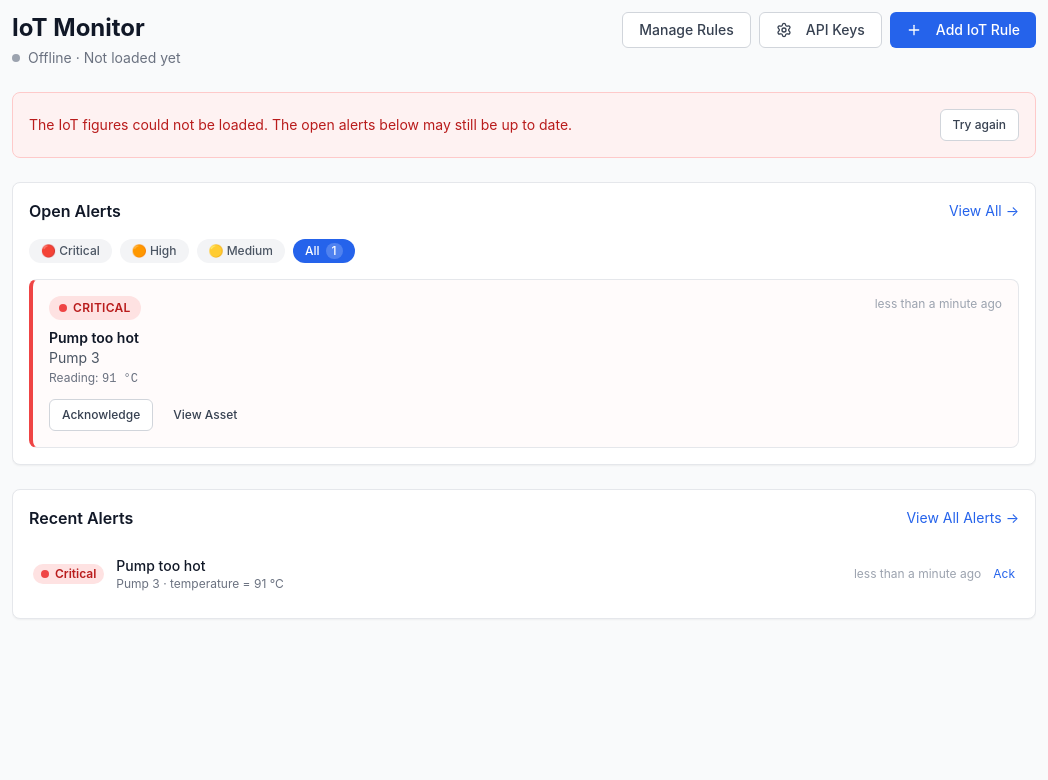
Test: IoT dashboard › when the figures cannot be loaded › shows the figures once "Try again" works
Expected: the message is shown, left=12, top=92, right=1036, bottom=158
Click the button "Try again". click: (979,125)
box: left=940, top=109, right=1019, bottom=141
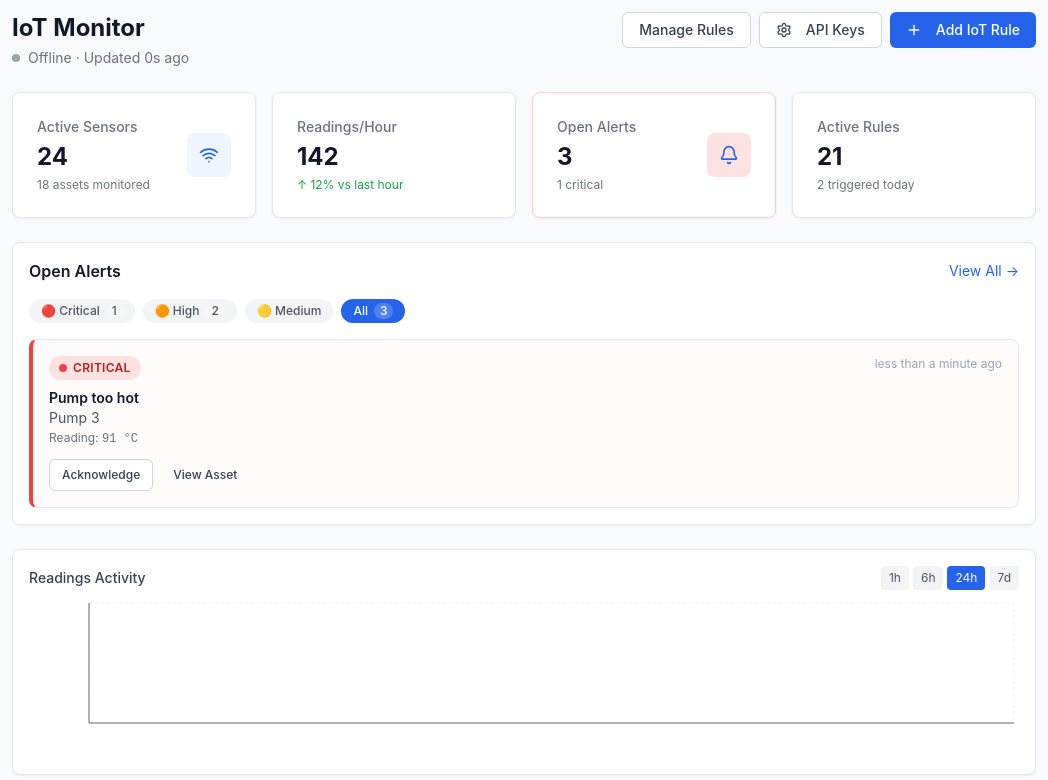
Result: the text "24" is shown at left=37, top=142, right=68, bottom=171
Result: the message is gone
